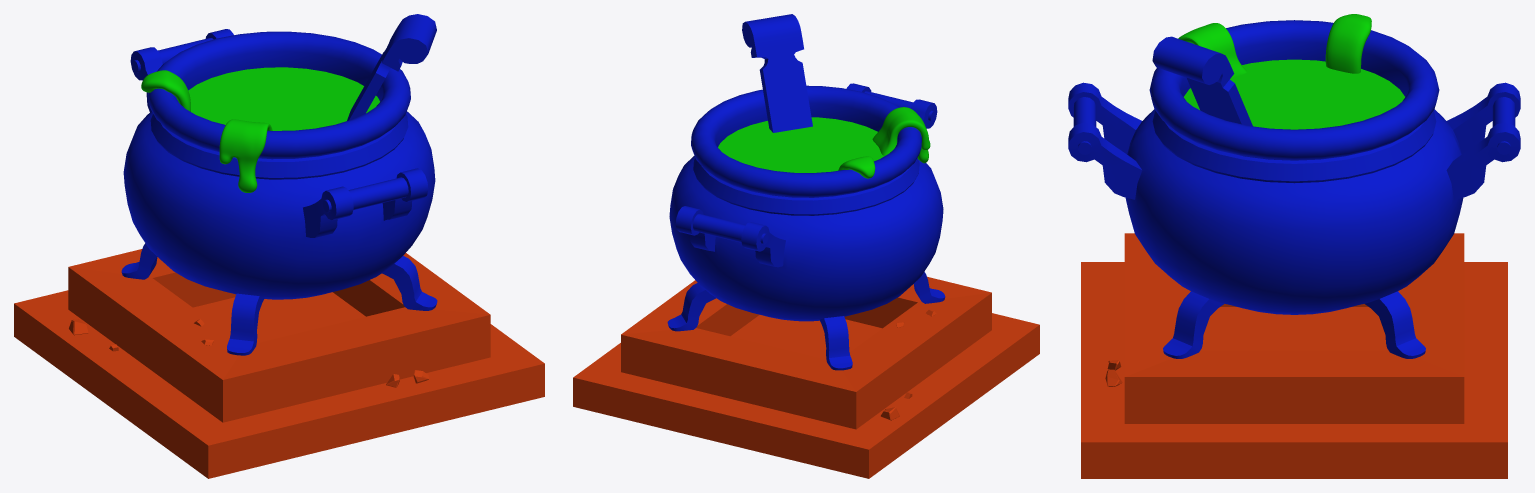
Rendered from CauldronV6.dae.
3 renders of one model, left to right at view 1: azimuth 30°, elevation 25°; view 2: azimuth 150°, elevation 25°; view 3: azimuth 270°, elevation 25°, orthographic. The views are drawn at different scales.
Parts seen in each view (by area): view 1: Cauldron_low, Base_Rocks_low, Base_low, Water_low, Stick_low, Goop_low, Goop_Small_low, Coal_Chunks_low; view 2: Cauldron_low, Base_Rocks_low, Base_low, Water_low, Stick_low, Goop_low, Goop_Small_low; view 3: Cauldron_low, Base_low, Base_Rocks_low, Water_low, Stick_low, Goop_Small_low, Goop_low.
Boxes of the visible parts, box(x1,y1,x2,y2) form: Cauldron_low: box(121, 29, 437, 355); Base_Rocks_low: box(68, 249, 490, 422); Base_low: box(14, 290, 544, 478); Water_low: box(188, 67, 379, 130); Stick_low: box(347, 14, 436, 120); Goop_low: box(219, 119, 272, 192); Goop_Small_low: box(141, 70, 190, 111); Coal_Chunks_low: box(69, 319, 428, 387); Cauldron_low: box(667, 83, 945, 370); Base_Rocks_low: box(621, 276, 991, 429); Base_low: box(573, 313, 1039, 478); Water_low: box(718, 117, 884, 172); Stick_low: box(742, 14, 812, 132); Goop_low: box(872, 107, 930, 163); Goop_Small_low: box(838, 156, 875, 178); Cauldron_low: box(1068, 20, 1520, 358); Base_low: box(1081, 262, 1507, 478); Base_Rocks_low: box(1124, 233, 1464, 423); Water_low: box(1184, 59, 1404, 129); Stick_low: box(1152, 36, 1252, 126); Goop_Small_low: box(1325, 14, 1371, 73); Goop_low: box(1178, 23, 1246, 78).
Size of the model in its own units: 401 by 404 by 425.
